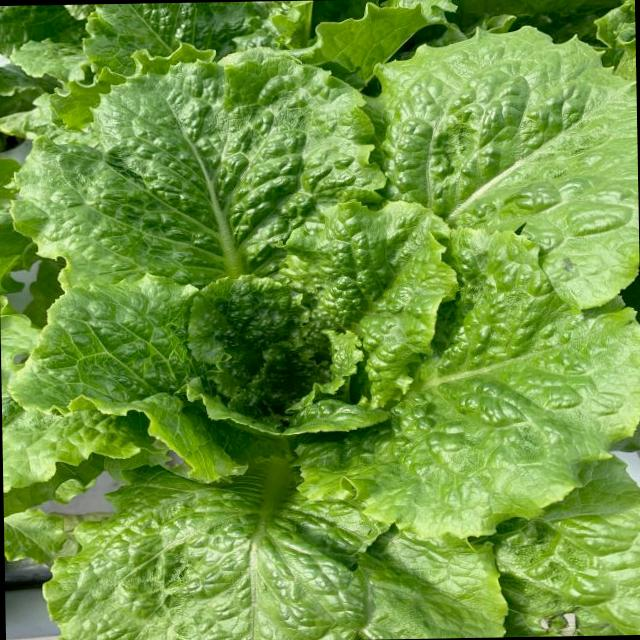lettuce mosaic virus: (5, 16, 625, 628)
